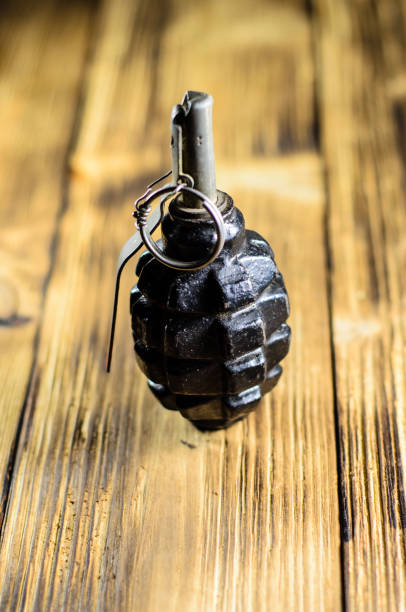e1: (108, 91, 300, 433)
